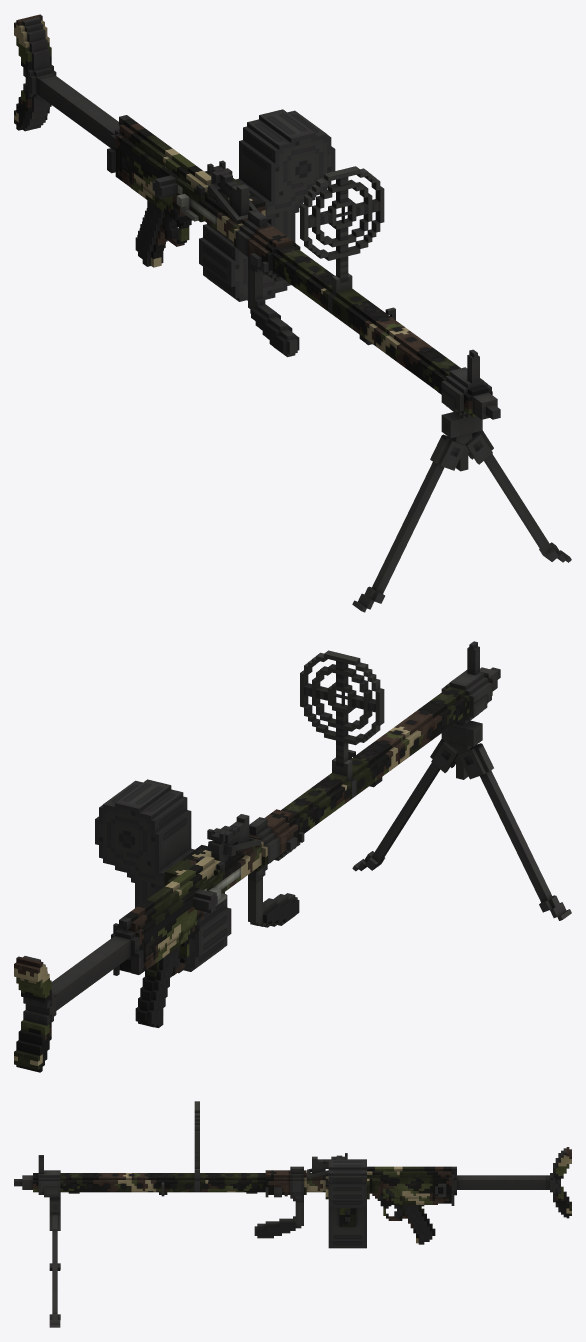
File: RD_MG13_MILITARY1945.glb
3 renders of one model, top to bottom at view 1: azimuth 30°, elevation 25°; view 2: azimuth 150°, elevation 25°; view 3: azimuth 270°, elevation 25°, orthographic. The views are drawn at different scales.
Parts seen in each view (by area): view 1: MG13, MG13_CLIP, MG13_SCOPE, MG13_DIPOD_LEG1, MG13_DIPOD_LEG2, MG13_DIPOD; view 2: MG13, MG13_CLIP, MG13_SCOPE, MG13_DIPOD_LEG1, MG13_DIPOD_LEG2, MG13_DIPOD; view 3: MG13, MG13_CLIP, MG13_DIPOD_LEG2, MG13_SCOPE.
Part boxes in pixels (x1,y1,x2,y2): MG13: [14, 14, 500, 419]; MG13_CLIP: [199, 109, 335, 301]; MG13_SCOPE: [300, 166, 384, 278]; MG13_DIPOD_LEG1: [352, 434, 465, 612]; MG13_DIPOD_LEG2: [465, 430, 571, 562]; MG13_DIPOD: [441, 412, 482, 471]; MG13: [14, 641, 500, 1072]; MG13_CLIP: [95, 779, 231, 973]; MG13_SCOPE: [300, 650, 384, 763]; MG13_DIPOD_LEG1: [458, 743, 571, 920]; MG13_DIPOD_LEG2: [352, 739, 458, 871]; MG13_DIPOD: [441, 720, 482, 779]; MG13: [14, 1147, 571, 1244]; MG13_CLIP: [328, 1159, 366, 1248]; MG13_DIPOD_LEG2: [49, 1213, 60, 1327]; MG13_SCOPE: [194, 1101, 199, 1168].
Bounding box in the file's own units: 0.5183 × 0.7642 × 2.01.
Materials: 1 (1 with a texture image).
